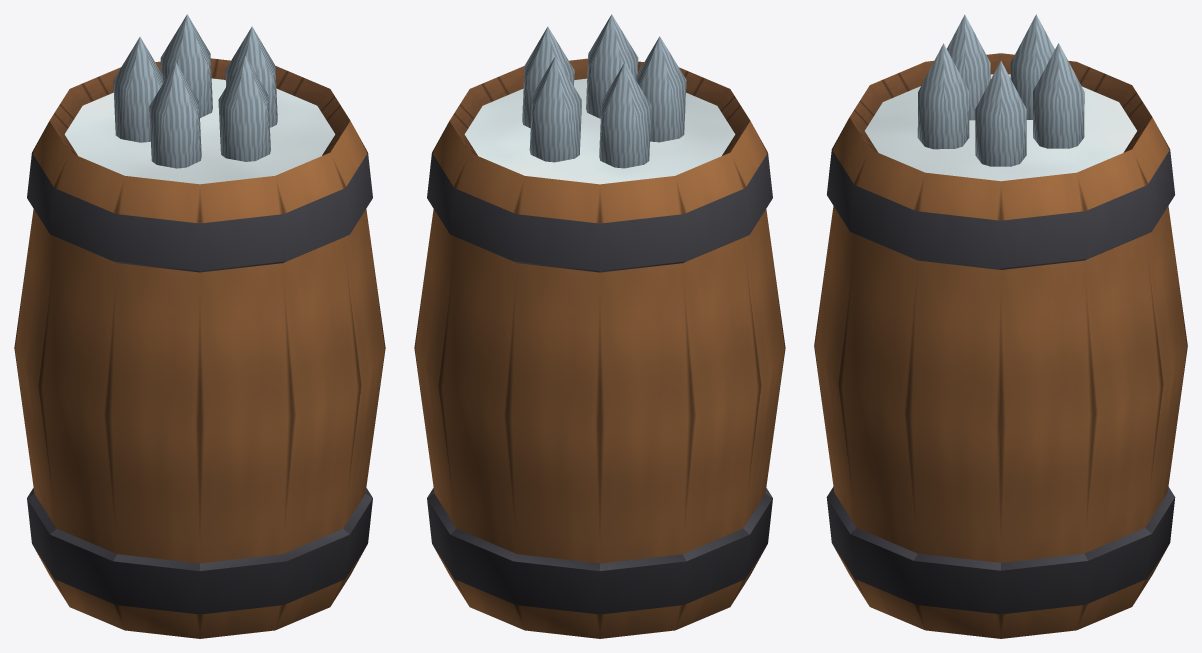
The model's file is prop_barrel_fish_01.glb.
3 views of the same model, side by side, from view 1: azimuth 30°, elevation 25°; view 2: azimuth 150°, elevation 25°; view 3: azimuth 270°, elevation 25° (orthographic).
Visible parts, largest first — view 1: prop_barrel_fish_01; view 2: prop_barrel_fish_01; view 3: prop_barrel_fish_01.
Boxes of the visible parts, bbox=[...] form: prop_barrel_fish_01: bbox=[14, 14, 385, 638]; prop_barrel_fish_01: bbox=[414, 14, 785, 638]; prop_barrel_fish_01: bbox=[814, 14, 1187, 638].
Size of the model in its own units: 0.74 by 1.18 by 0.74.
1 material, 1 textured.
